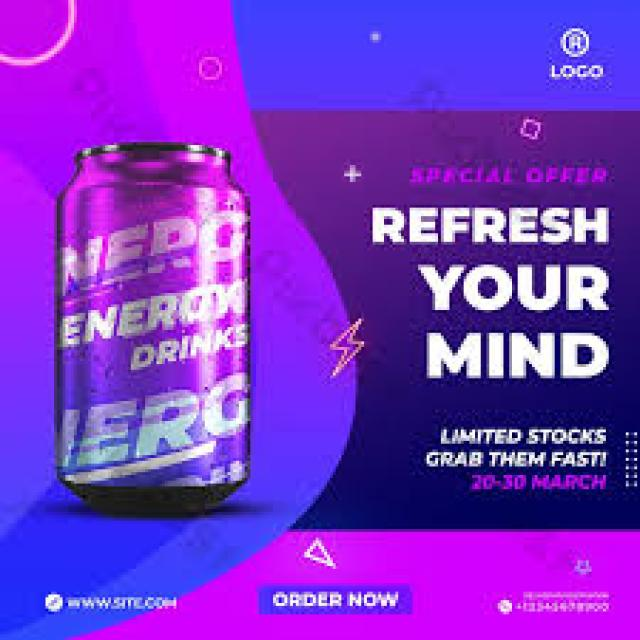Cans: (46, 131, 264, 518)
